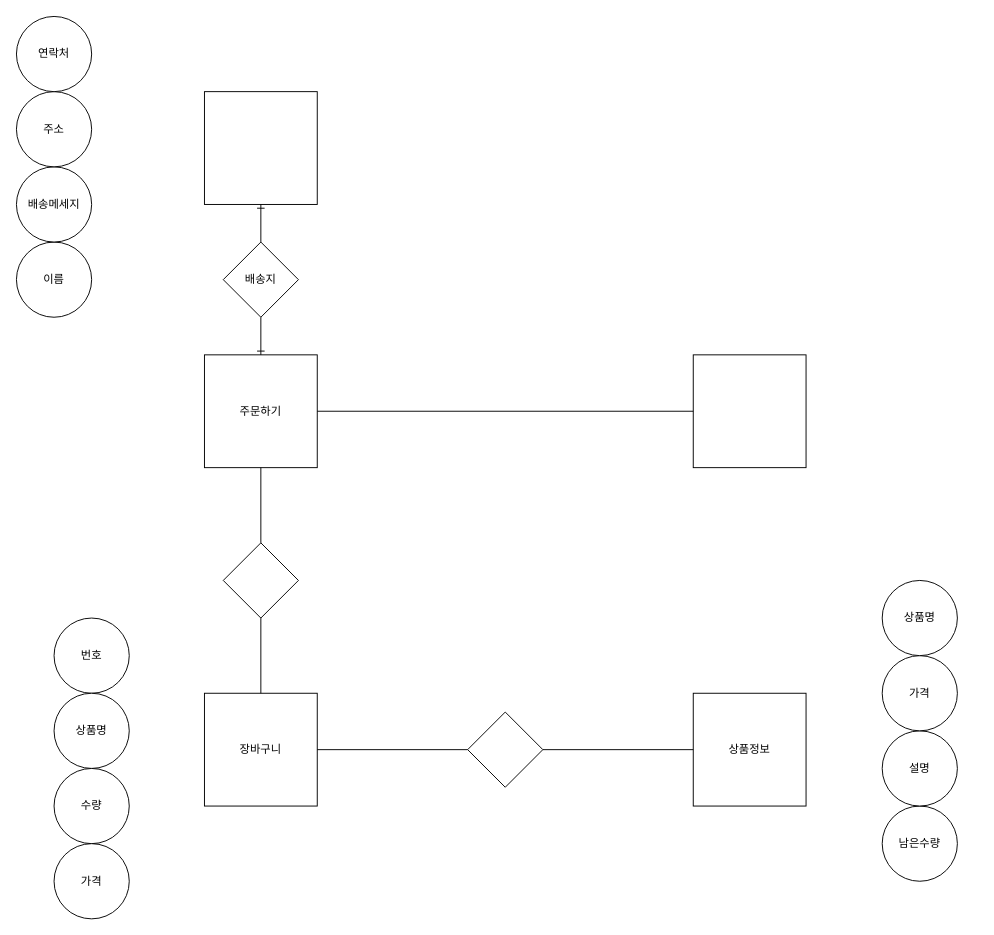
This 994x935 diagram has some shape labels left out. The shapes that lost their labels are listed below. From the top down, each one's box as (x1, y1, x2, y2) in pixels, then its label:
(204, 91, 317, 204): 회원정보
(692, 354, 806, 468): 주문 리스트
(222, 542, 298, 618): 주문할 상품
(467, 711, 543, 787): 담기
